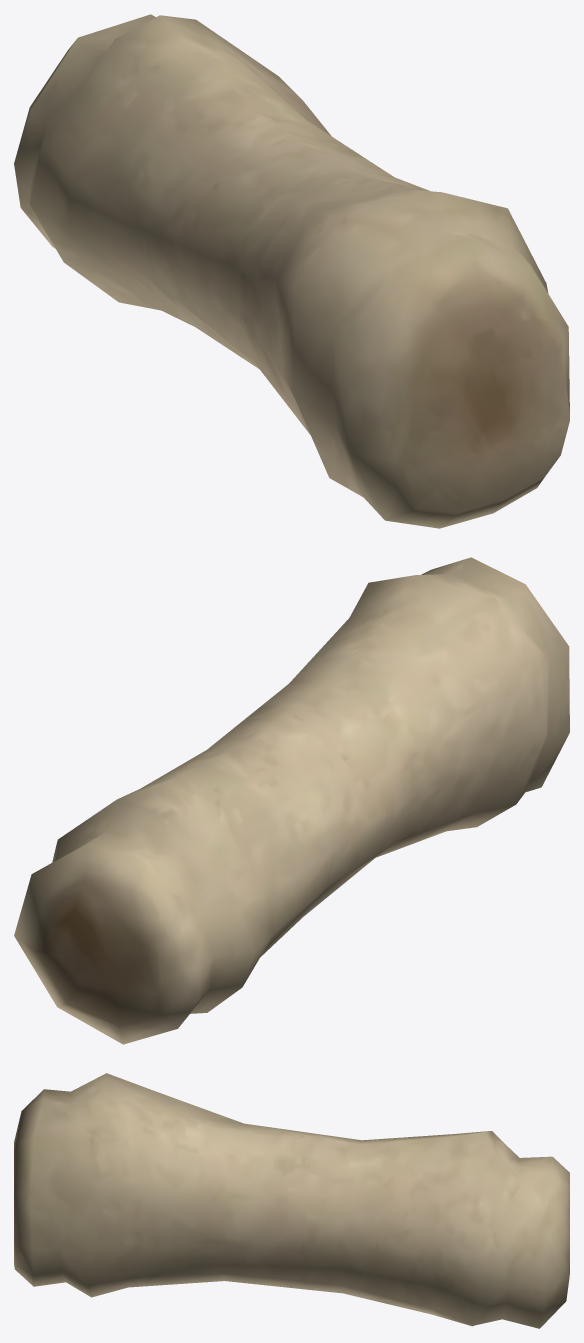
File: Caudal_Vertebrae10.glb
3 renders of one model, top to bottom at view 1: azimuth 30°, elevation 25°; view 2: azimuth 150°, elevation 25°; view 3: azimuth 270°, elevation 25°, orthographic. The views are drawn at different scales.
Parts seen in each view (by area): view 1: Caudal_Vertebrae_29:Group48070; view 2: Caudal_Vertebrae_29:Group48070; view 3: Caudal_Vertebrae_29:Group48070.
Boxes of the visible parts, x1=… form: Caudal_Vertebrae_29:Group48070: x1=14, y1=14, x2=569, y2=528; Caudal_Vertebrae_29:Group48070: x1=14, y1=557, x2=569, y2=1044; Caudal_Vertebrae_29:Group48070: x1=14, y1=1073, x2=569, y2=1328.
Size of the model in its own units: 7.91 by 8.28 by 19.38.
Materials: 1 (1 with a texture image).
